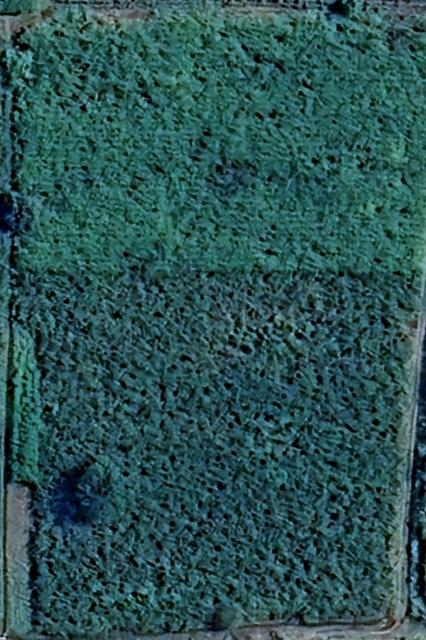Farms: (7, 280, 420, 633), (9, 15, 426, 284)
